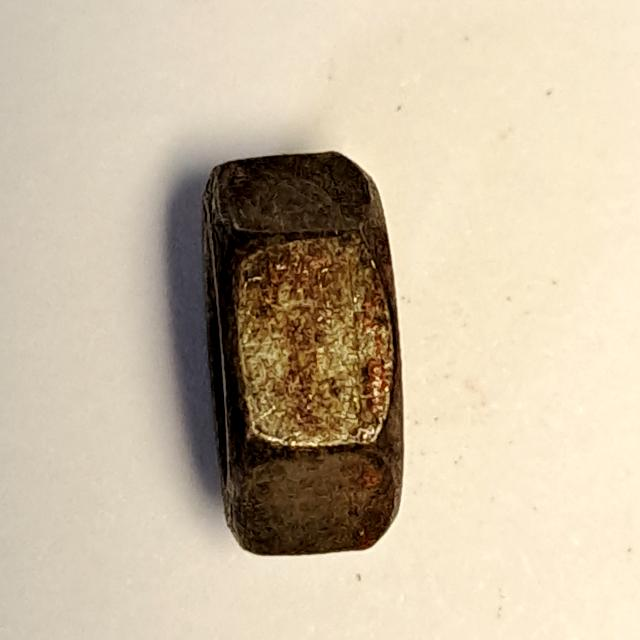Side_Rust: (173, 139, 424, 572)
